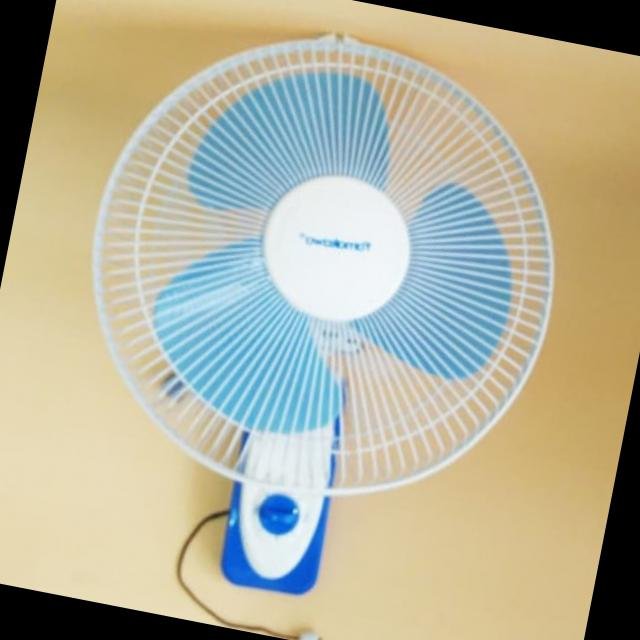fan: (26, 0, 628, 640)
